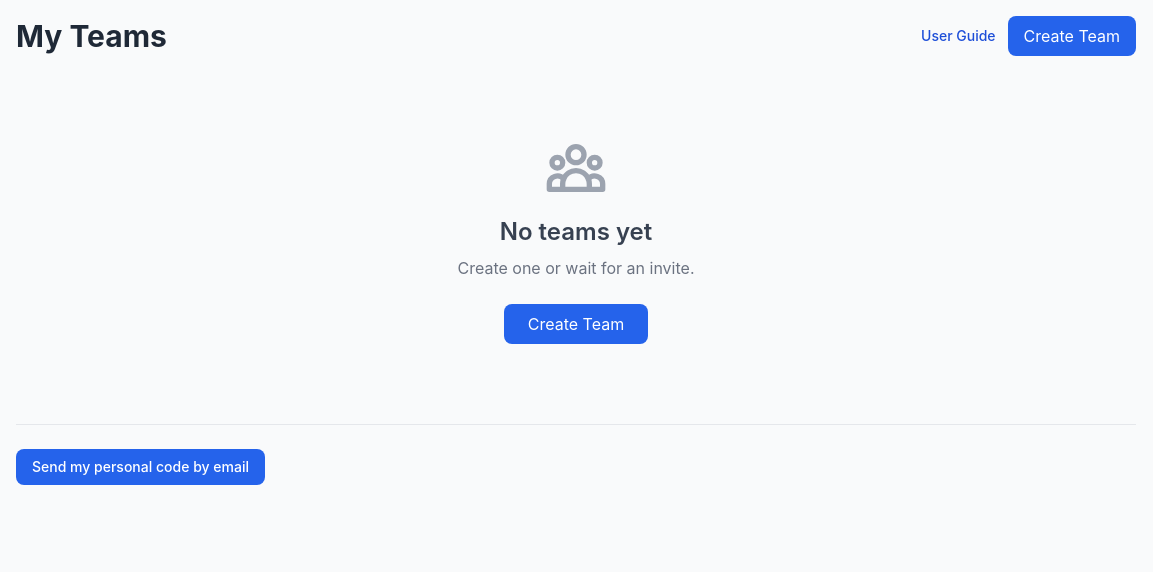
Test: TeamsList › shows error toast when privacy code email fails
This screenshot has width=1153, height=572.
Click the button "Send my personal code by email".
click(140, 467)  # box [16,449,265,485]
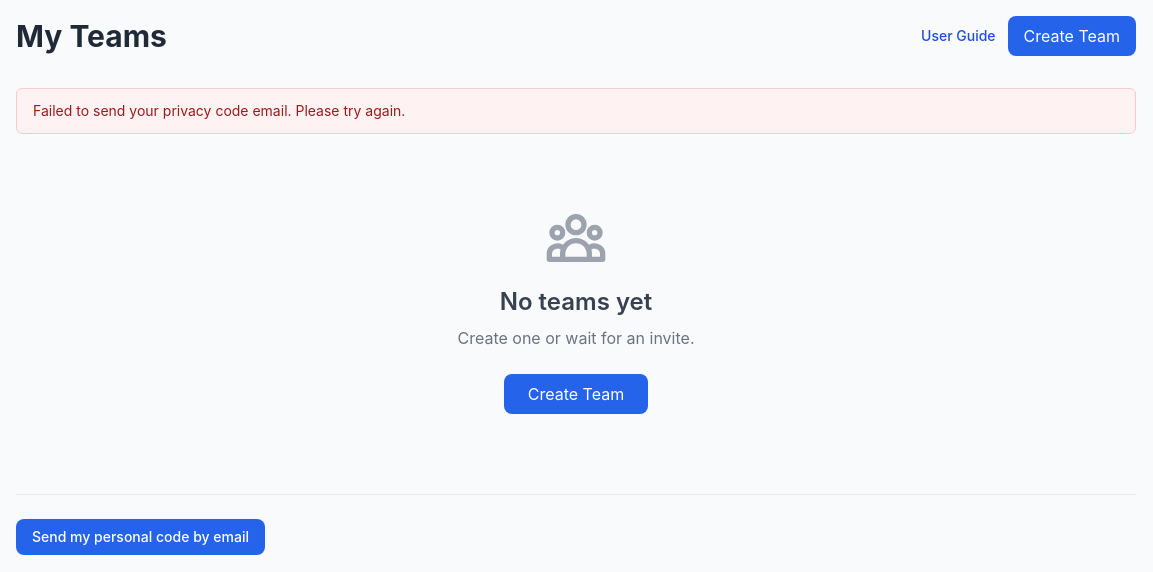
Expected: the text "Failed to send your privacy code email. Please try again." is shown, [16,88,1136,134]
